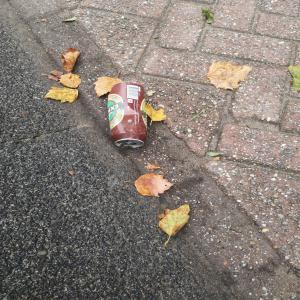Can: (105, 81, 156, 151)
